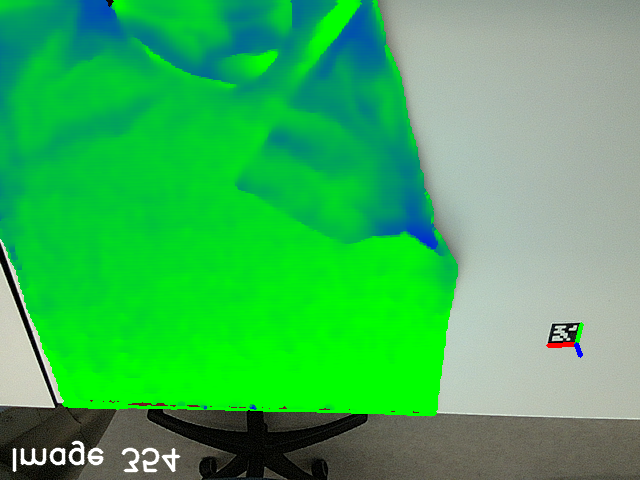V: (229, 150, 271, 209)
